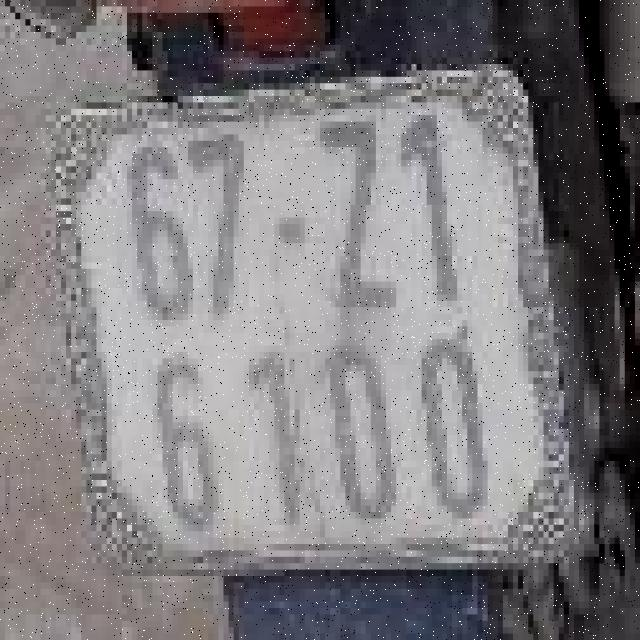0: (322, 327, 404, 538), (419, 327, 495, 538)
1: (397, 102, 472, 308), (246, 346, 312, 538)
6: (147, 342, 229, 541), (117, 141, 193, 326)
7: (186, 124, 252, 330)
Z: (312, 106, 399, 316)
